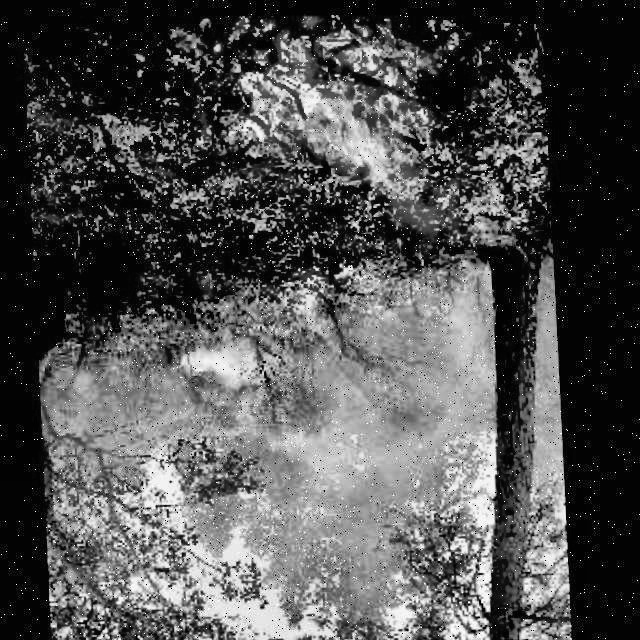Fire: (222, 8, 458, 261), (245, 253, 357, 344)
Smoke: (213, 262, 513, 626)
